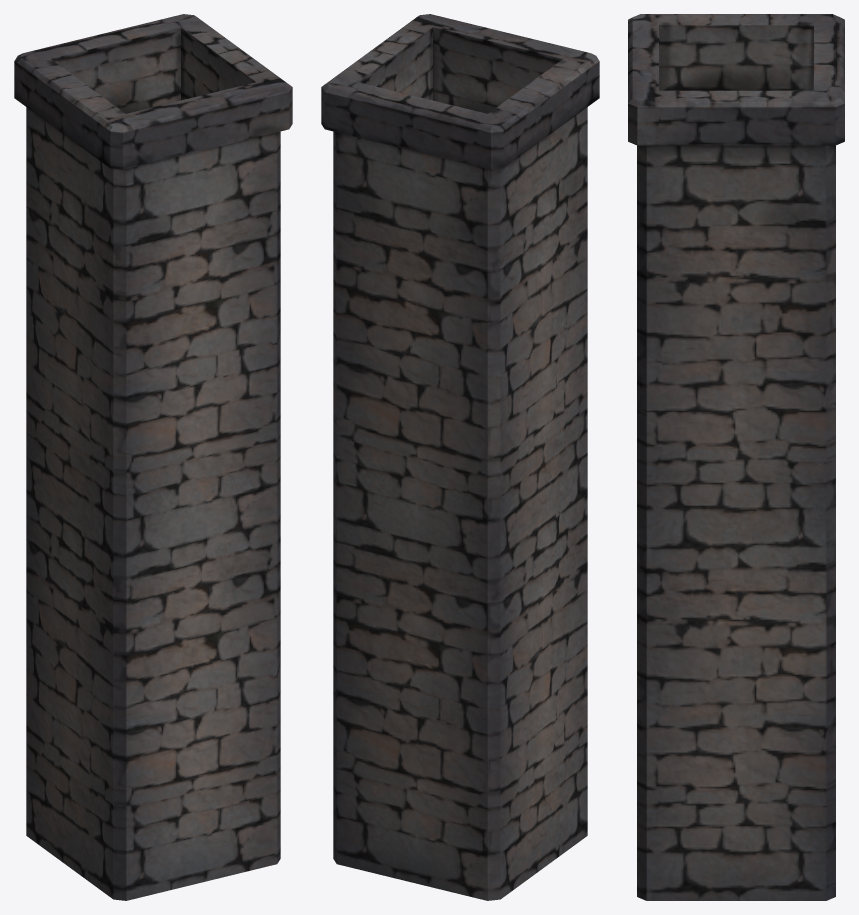
The model's file is sb_obj_outdoor002_DemonsCastle01_chimney00.fbx.
3 views of the same model, side by side, from view 1: azimuth 30°, elevation 25°; view 2: azimuth 150°, elevation 25°; view 3: azimuth 270°, elevation 25° (orthographic). The views are drawn at different scales.
Visible parts, largest first — view 1: sb_obj_outdoor002_DemonsCastle01_chimney00; view 2: sb_obj_outdoor002_DemonsCastle01_chimney00; view 3: sb_obj_outdoor002_DemonsCastle01_chimney00.
Part boxes in pixels (x1,y1,x2,y2): sb_obj_outdoor002_DemonsCastle01_chimney00: (14,14,292,900); sb_obj_outdoor002_DemonsCastle01_chimney00: (321,14,599,900); sb_obj_outdoor002_DemonsCastle01_chimney00: (628,14,844,900).
Bounding box in the file's own units: 1.08 × 4.39 × 1.08.
